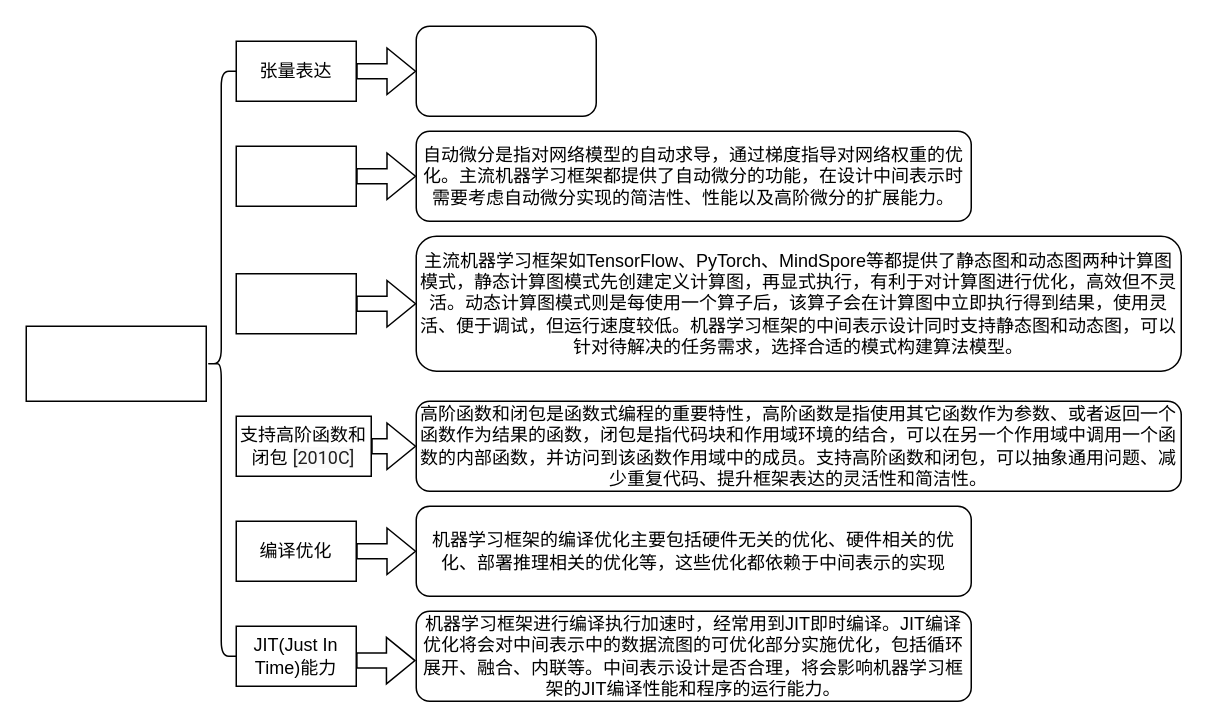
This 1208x728 diagram has some shape labels left out. The shapes that lost their labels are listed below. From the top down, each one's centre as x and y in pixels, then its label:
point (505, 70): 正确处理张量数据
point (295, 175): 自动微分
point (295, 303): 计算图模式
point (115, 363): 中间表示IR设计需求
